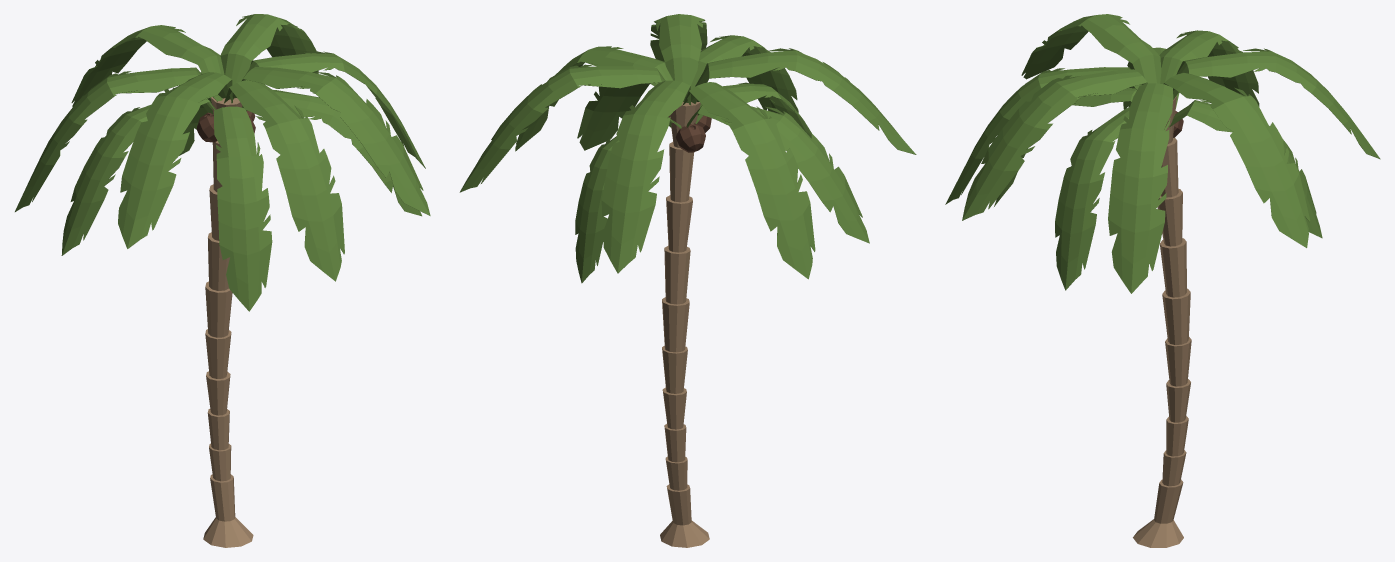
File: Coconut Tree.glb
3 views of the same model, side by side, from view 1: azimuth 30°, elevation 25°; view 2: azimuth 150°, elevation 25°; view 3: azimuth 270°, elevation 25° (orthographic).
Visible parts, largest first — view 1: Sphere.002; view 2: Sphere.002; view 3: Sphere.002.
Boxes of the visible parts, box(x1,y1,x2,y2) form: Sphere.002: box(15, 14, 430, 547); Sphere.002: box(459, 14, 916, 547); Sphere.002: box(945, 14, 1380, 547).
Size of the model in its own units: 12.13 by 15.51 by 12.69.
